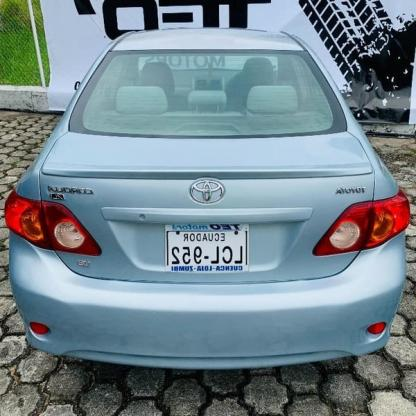Placa: (164, 220, 250, 273)
